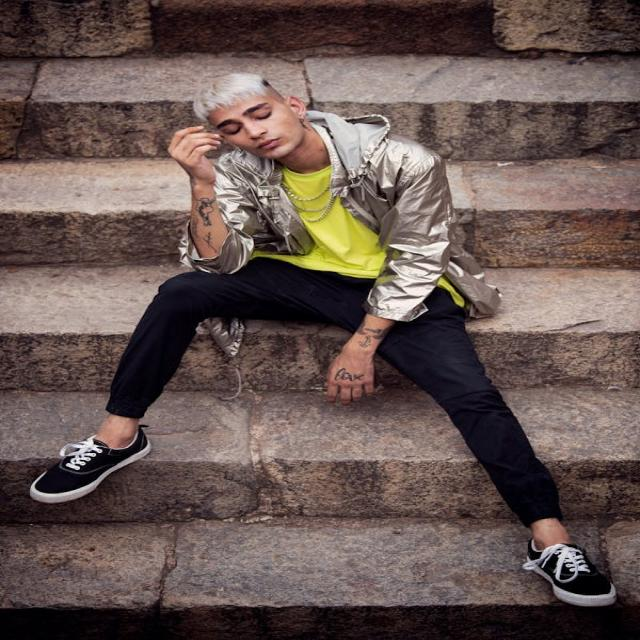Real human 2: (71, 66, 614, 615)
